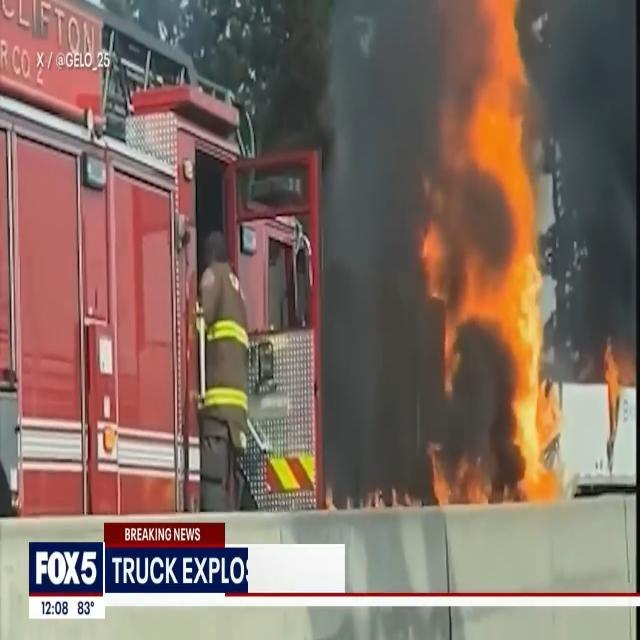fire: (421, 12, 568, 510), (262, 448, 312, 493)
